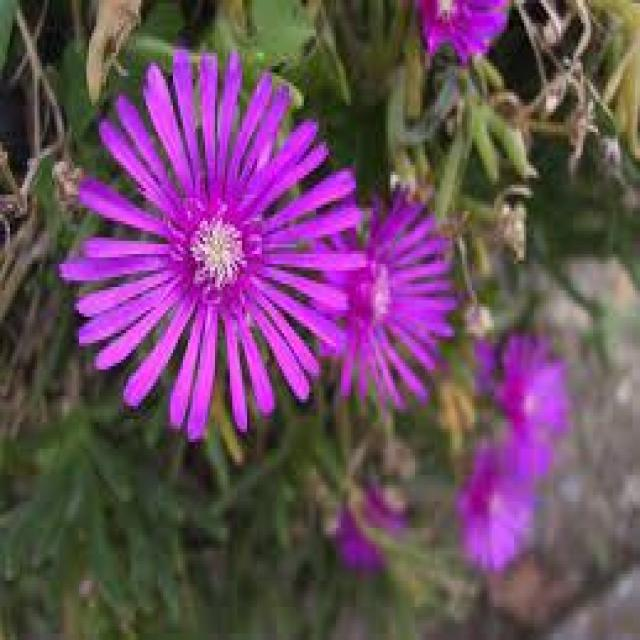organic waste: (62, 56, 358, 426), (340, 203, 451, 411)
